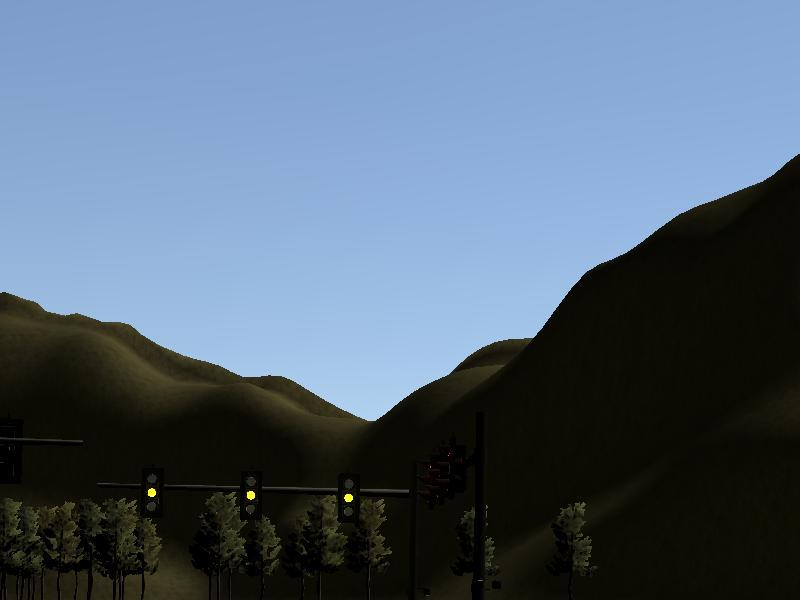Yellow: (337, 472, 361, 525), (239, 471, 262, 521), (141, 469, 163, 520)
